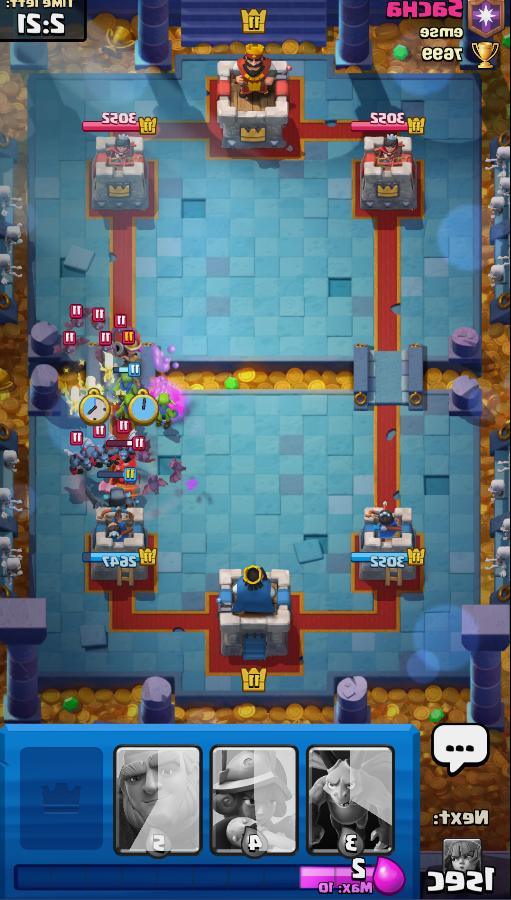bat: (51, 338, 84, 361), (63, 305, 91, 331), (107, 317, 139, 339), (91, 336, 116, 364), (142, 473, 167, 500), (132, 441, 154, 469), (167, 460, 189, 485), (88, 309, 108, 331)
gargouille: (63, 437, 94, 476), (87, 436, 119, 465), (109, 433, 138, 460)
gobelin: (115, 393, 143, 430), (152, 394, 178, 432), (113, 372, 138, 401)
mini_PEKKA: (79, 484, 137, 520)
mousquetaire: (113, 341, 148, 386)
squelette: (61, 385, 84, 416), (79, 376, 102, 405), (98, 354, 116, 385)
